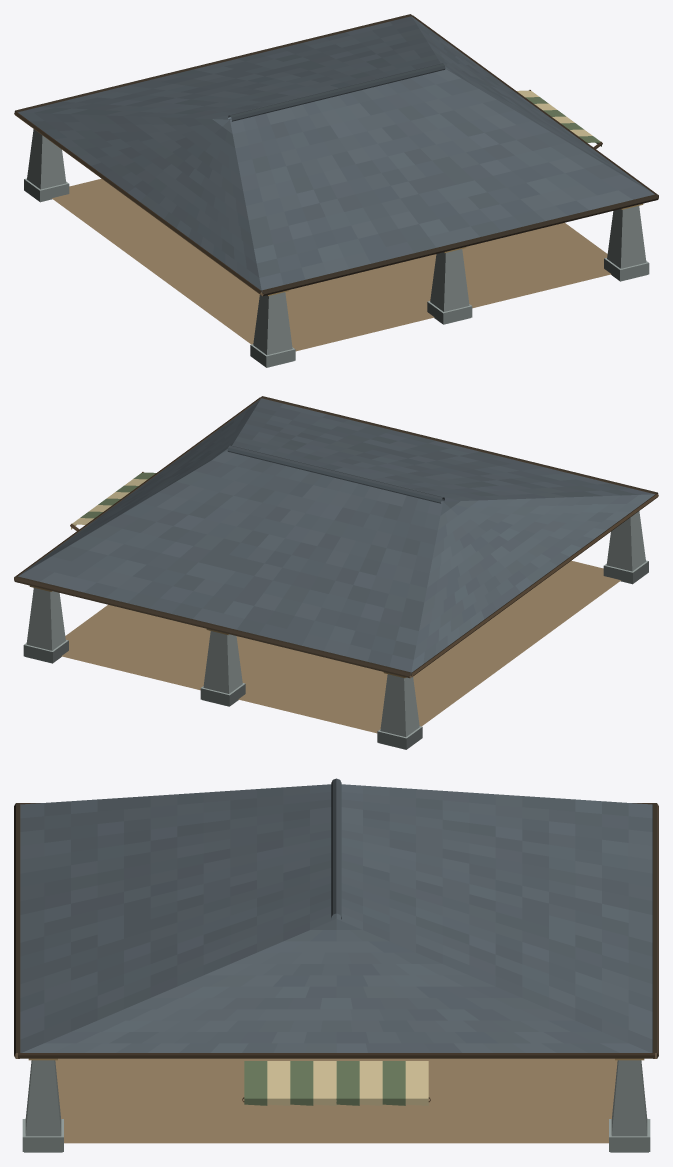
3 views of the same model, one above another, from view 1: azimuth 30°, elevation 25°; view 2: azimuth 150°, elevation 25°; view 3: azimuth 270°, elevation 25° (orthographic). The views are drawn at different scales.
Visible parts, largest first — view 1: c9f51dcc1c6a80ba66ff84f835fb7fb7daef391ef5cb0dcc9ce127ac7023; view 2: c9f51dcc1c6a80ba66ff84f835fb7fb7daef391ef5cb0dcc9ce127ac7023; view 3: c9f51dcc1c6a80ba66ff84f835fb7fb7daef391ef5cb0dcc9ce127ac7023.
Part boxes in pixels (box(x1,y1,x2,y2)): c9f51dcc1c6a80ba66ff84f835fb7fb7daef391ef5cb0dcc9ce127ac7023: box(14, 14, 658, 367); c9f51dcc1c6a80ba66ff84f835fb7fb7daef391ef5cb0dcc9ce127ac7023: box(14, 396, 658, 749); c9f51dcc1c6a80ba66ff84f835fb7fb7daef391ef5cb0dcc9ce127ac7023: box(14, 778, 658, 1152).
Size of the model in its own units: 13.98 by 4.46 by 14.02.
6 materials, 1 textured.
